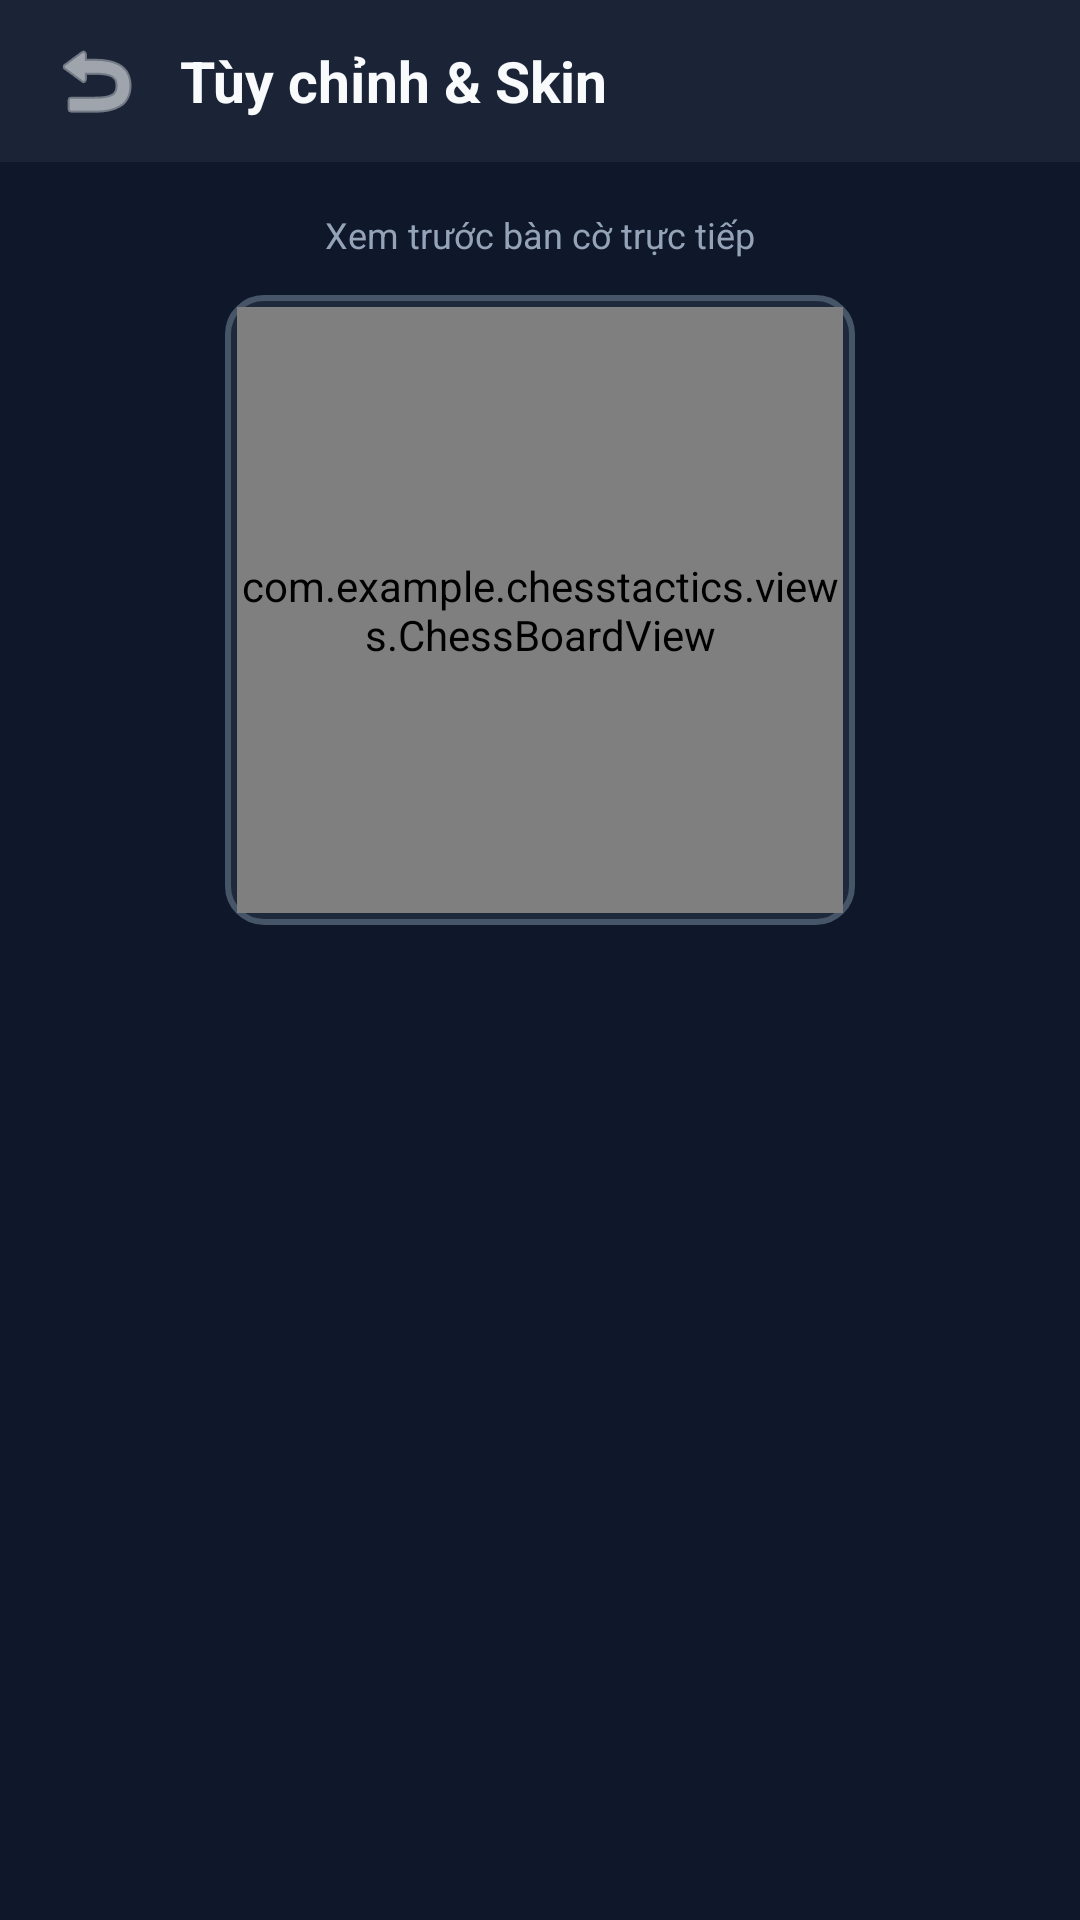

Where icons sit on this 1080px x 1920px app screen, as (x1, y1, x2, y2):
Back: (63, 50, 132, 113)
